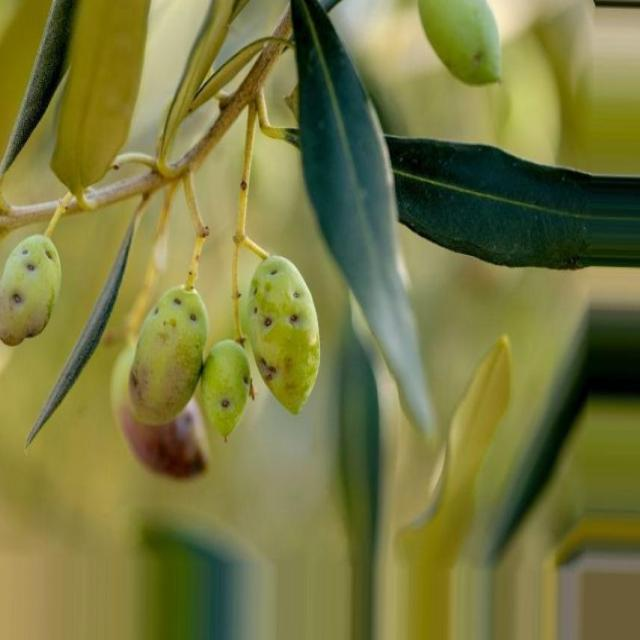Olive Fruit Fly: (244, 255, 320, 413), (129, 281, 208, 424), (0, 235, 61, 346), (200, 339, 253, 441)
